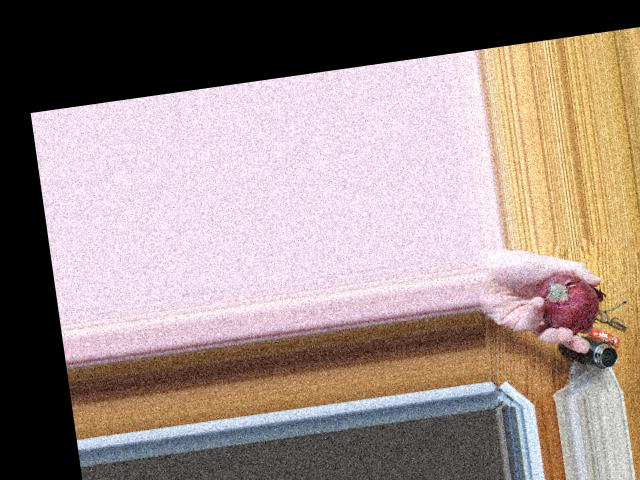onion: (528, 266, 599, 330)
